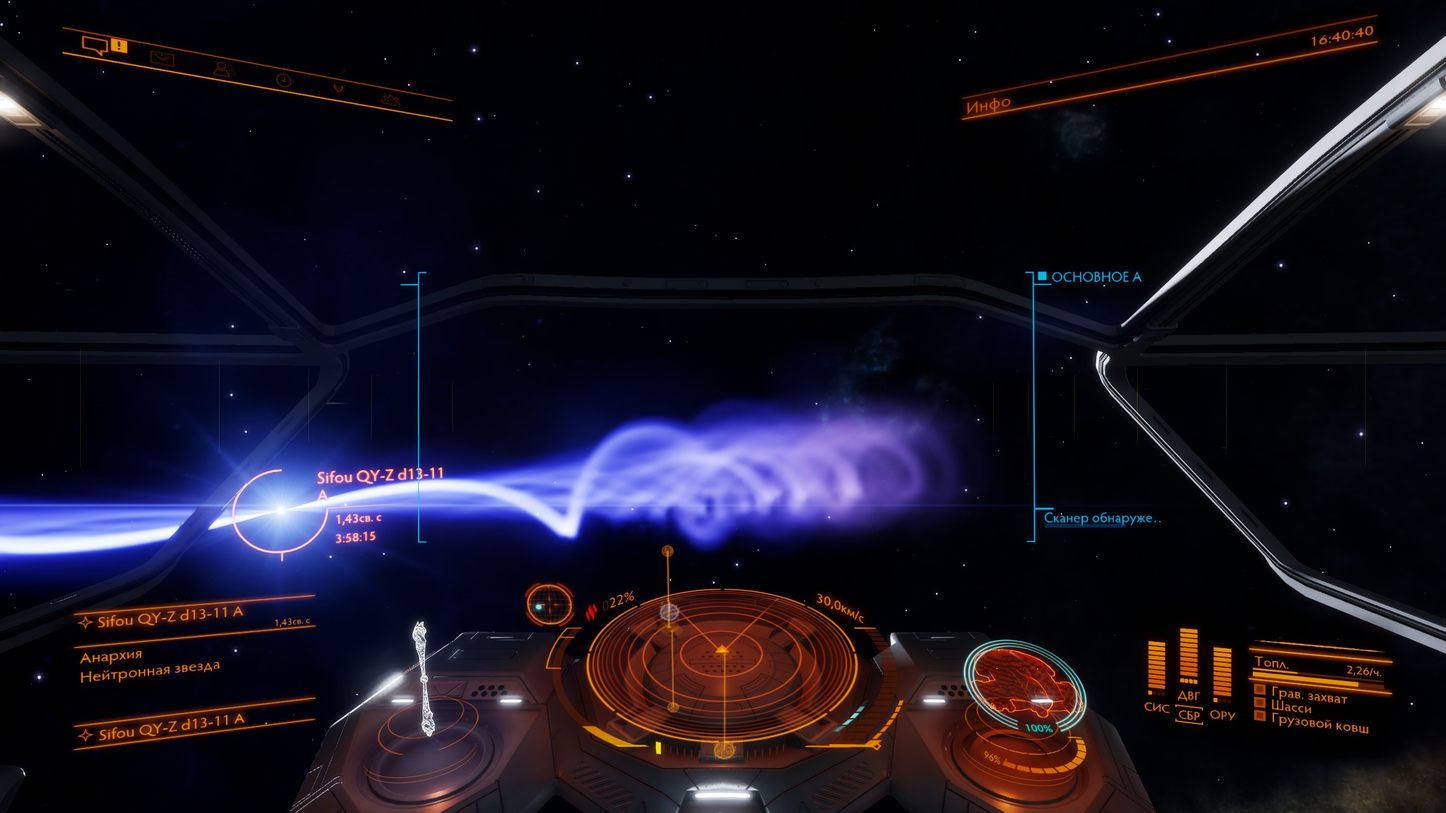core: (0, 269, 938, 584)
jetcone: (0, 272, 896, 563)
